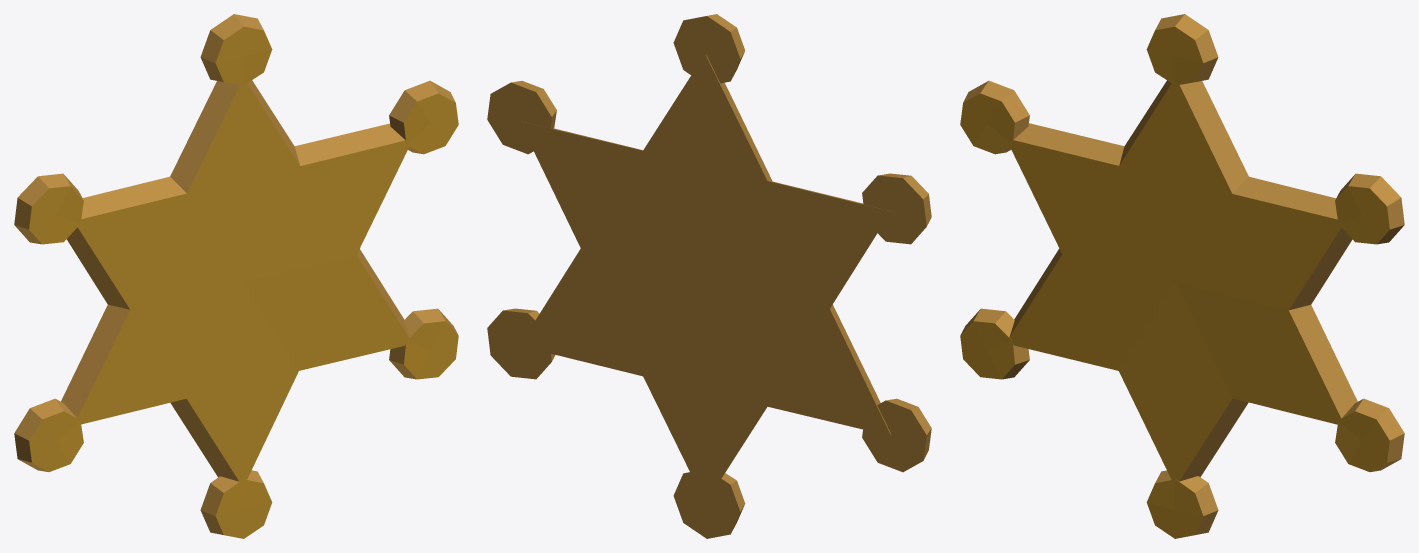
File: Sheriff_Star.fbx
The picture shows the model from 3 angles, left to right: view 1: azimuth 30°, elevation 25°; view 2: azimuth 150°, elevation 25°; view 3: azimuth 330°, elevation 25°; orthographic projection.
Visible parts, largest first — view 1: Sherrif_Star; view 2: Sherrif_Star; view 3: Sherrif_Star.
Part boxes in pixels (left/top/right/bottom): Sherrif_Star: left=14, top=14, right=458, bottom=538; Sherrif_Star: left=487, top=14, right=931, bottom=538; Sherrif_Star: left=960, top=14, right=1404, bottom=538.
Bounding box in the file's own units: 281 × 320 × 12.91.
